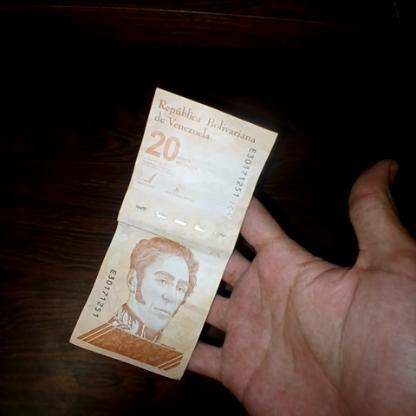twenty-front-vef: (69, 86, 278, 380)
